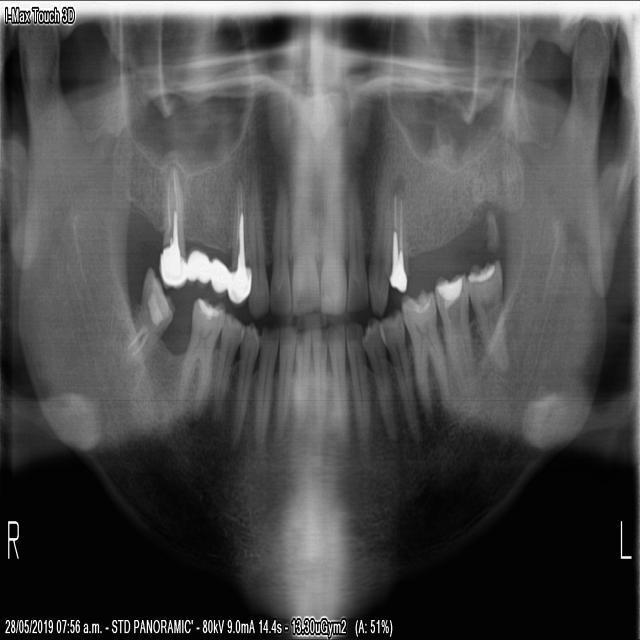LCD: (344, 314, 370, 459)
LCU: (365, 132, 393, 319)
LID: (326, 318, 349, 453), (309, 321, 328, 458)
LIU: (318, 139, 345, 317), (345, 161, 368, 313)
LMD: (398, 285, 450, 431), (431, 267, 474, 399), (463, 254, 508, 372)
LPMD: (376, 305, 421, 449), (357, 312, 399, 447)
LPMU: (380, 159, 409, 293)
RCD: (250, 322, 280, 453)
RCU: (244, 159, 269, 321)
RID: (273, 320, 296, 449), (293, 324, 310, 439)
RIU: (289, 151, 319, 317), (268, 169, 292, 317)
RMD: (175, 293, 225, 422), (120, 259, 176, 368)
RMU: (156, 149, 189, 293)
RPMD: (226, 319, 261, 456), (211, 309, 245, 424)
RPMU: (223, 159, 252, 305)
